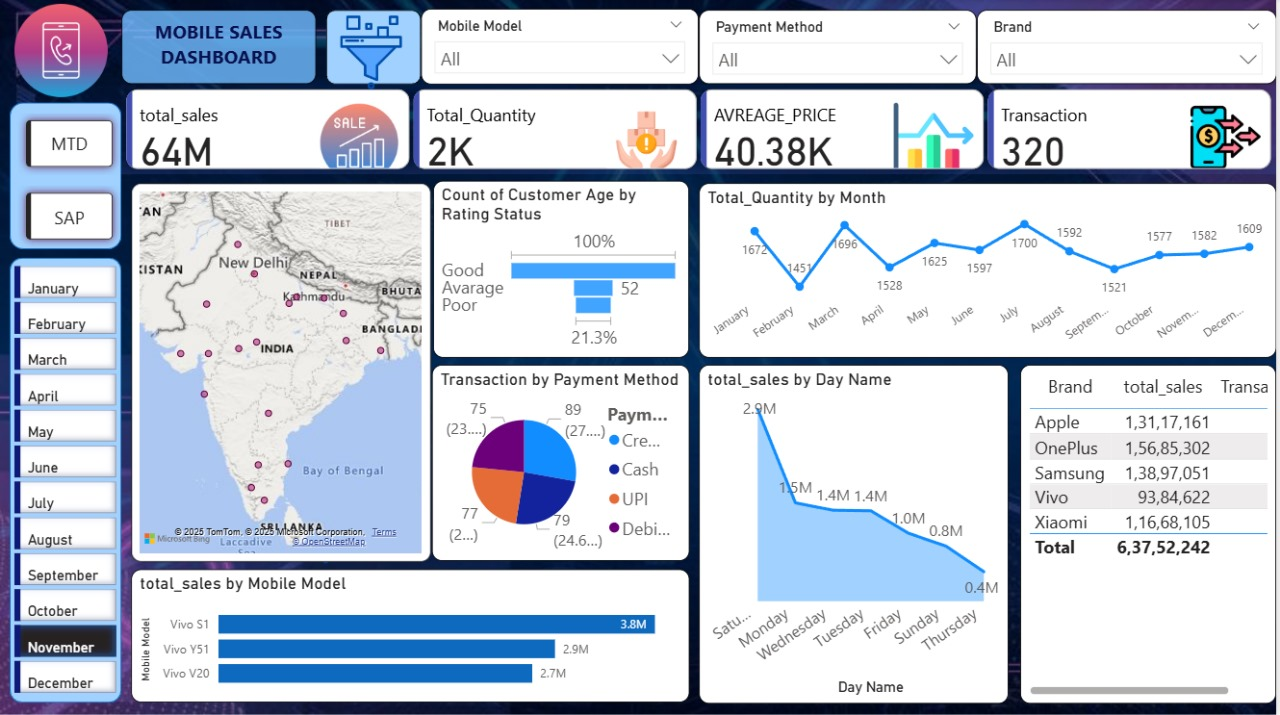

What the dashboard file says about the page in this screenshot:
{"tool":"powerbi","page":{"name":"Dashboard","canvas":[1280,720],"ordinal":0},"visuals":[{"type":"image","box":[9.7,0,103.8,103.8],"z":0},{"type":"shape","box":[9.7,103.8,112.2,147.2],"z":1000},{"type":"shape","box":[9.7,259.4,112.2,446.4],"z":2000},{"type":"advancedSlicerVisual","fields":{"Values":["Custom calender.Date.Variation.Date Hierarchy.Month"]},"box":[9.7,263,112.2,444],"z":3000},{"type":"cardVisual","fields":{"Data":["mobile sales data.total_sales","mobile sales data.Total_Quantity","mobile sales data.AVREAGE_PRICE","mobile sales data.Transaction"]},"box":[121.9,85.7,1158.2,90.5],"z":4000},{"type":"slicer","fields":{"Values":["mobile sales data.Mobile Model"]},"box":[422.3,9.7,278.7,76],"z":5000},{"type":"slicer","fields":{"Values":["mobile sales data.Payment Method"]},"box":[700.9,10.9,278.7,74.8],"z":6000},{"type":"slicer","fields":{"Values":["mobile sales data.Brand"]},"box":[979.6,10.9,300.4,74.8],"z":7000},{"type":"shape","box":[326.9,10.9,95.3,74.8],"z":8000},{"type":"image","box":[259.4,509.1,135.1,62.7],"z":9000},{"type":"textbox","box":[121.9,10.9,195.4,74.8],"z":11000},{"type":"lineChart","fields":{"Category":["Custom calender.Date.Variation.Date Hierarchy.Month"],"Y":["mobile sales data.Total_Quantity"]},"box":[700.9,184.6,579.1,174.9],"z":12000},{"type":"funnel","fields":{"Y":["CountNonNull(mobile sales data.Customer Age)"],"Category":["mobile sales data.Rating Status"]},"box":[434.3,182.2,257,177.3],"z":13000},{"type":"pieChart","fields":{"Y":["mobile sales data.Transaction"],"Category":["mobile sales data.Payment Method"]},"box":[433.1,366.8,258.2,196.6],"z":14000},{"type":"clusteredBarChart","fields":{"Y":["mobile sales data.total_sales"],"Category":["mobile sales data.Mobile Model"]},"box":[131.5,571.9,559.8,133.9],"z":15000},{"type":"areaChart","fields":{"Y":["mobile sales data.total_sales"],"Category":["Custom calender.Day Name"]},"box":[700.9,366.8,310.1,340.2],"z":16000},{"type":"tableEx","fields":{"Values":["mobile sales data.Brand","mobile sales data.total_sales","mobile sales data.Transaction"]},"box":[1023.1,366.8,257,340.2],"z":17000},{"type":"pageNavigator","box":[18.1,113.4,103.8,137.5],"z":18000},{"type":"map","fields":{"Category":["mobile sales data.City"]},"box":[131.5,184.6,300.4,380],"z":19000},{"type":"image","box":[326.9,10.9,90.5,85.7],"z":20000}]}

Visuals, with their boxes in screenshot pixels (x1, y1, x2, y2), scaled from the page's 1280x720 canvas onto the 1280x715 screenshot:
image: bbox(10, 0, 114, 103)
shape: bbox(10, 103, 122, 249)
shape: bbox(10, 258, 122, 701)
advancedSlicerVisual - Custom calender.Date.Variation.Date Hierarchy.Month: bbox(10, 261, 122, 702)
cardVisual - mobile sales data.total_sales x mobile sales data.Total_Quantity: bbox(122, 85, 1279, 175)
slicer - mobile sales data.Mobile Model: bbox(422, 10, 701, 85)
slicer - mobile sales data.Payment Method: bbox(701, 11, 980, 85)
slicer - mobile sales data.Brand: bbox(980, 11, 1279, 85)
shape: bbox(327, 11, 422, 85)
image: bbox(259, 506, 394, 568)
textbox: bbox(122, 11, 317, 85)
lineChart - Custom calender.Date.Variation.Date Hierarchy.Month x mobile sales data.Total_Quantity: bbox(701, 183, 1279, 357)
funnel - CountNonNull(mobile sales data.Customer Age) x mobile sales data.Rating Status: bbox(434, 181, 691, 357)
pieChart - mobile sales data.Transaction x mobile sales data.Payment Method: bbox(433, 364, 691, 559)
clusteredBarChart - mobile sales data.total_sales x mobile sales data.Mobile Model: bbox(132, 568, 691, 701)
areaChart - mobile sales data.total_sales x Custom calender.Day Name: bbox(701, 364, 1011, 702)
tableEx - mobile sales data.Brand x mobile sales data.total_sales: bbox(1023, 364, 1279, 702)
pageNavigator: bbox(18, 113, 122, 249)
map - mobile sales data.City: bbox(132, 183, 432, 561)
image: bbox(327, 11, 417, 96)
